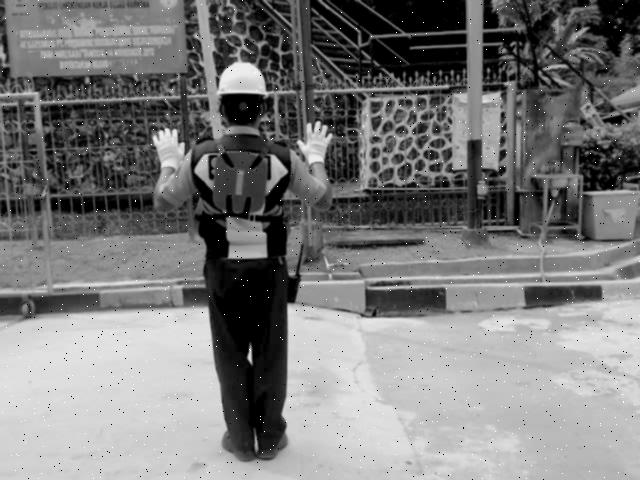gloves: (295, 120, 333, 166), (151, 125, 187, 172)
helmet: (216, 59, 271, 102)
safety-shoes: (221, 424, 260, 464), (256, 428, 289, 459)
vest: (212, 146, 270, 215)
